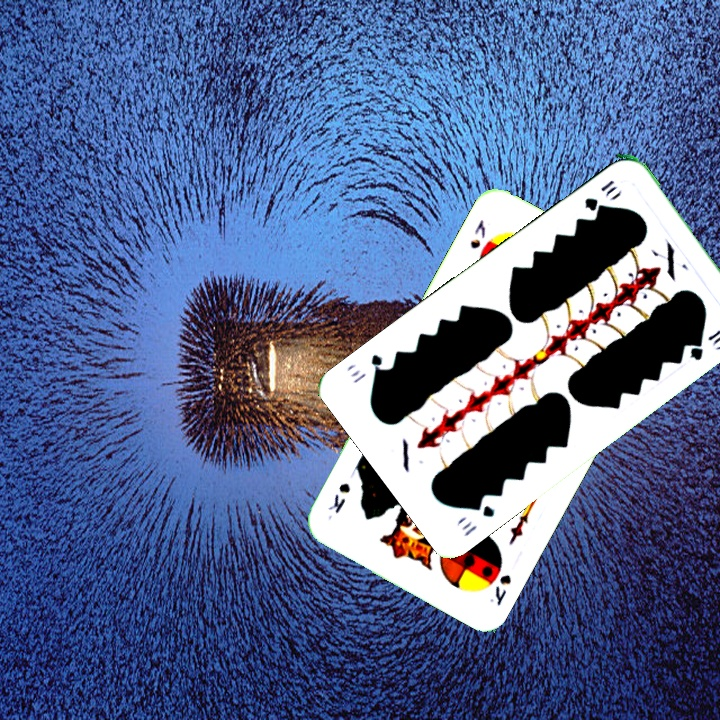G10: (457, 496, 498, 540), (580, 175, 619, 214)
SK: (485, 570, 514, 609), (465, 215, 489, 252)
